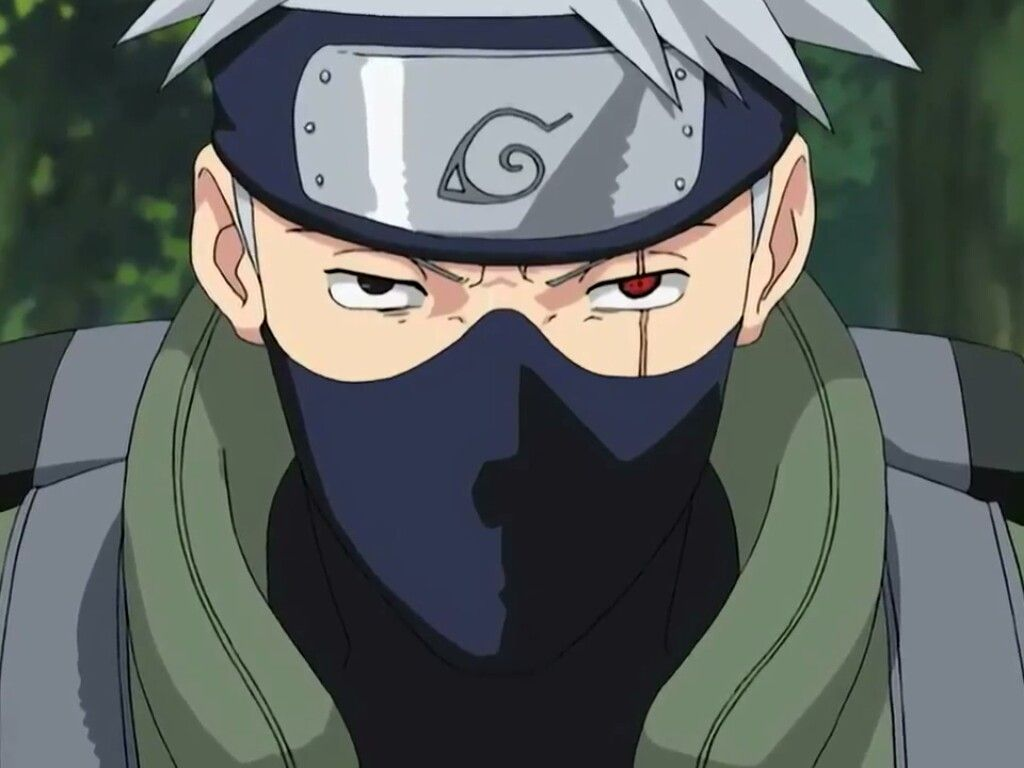kakashi: (179, 3, 826, 671)
